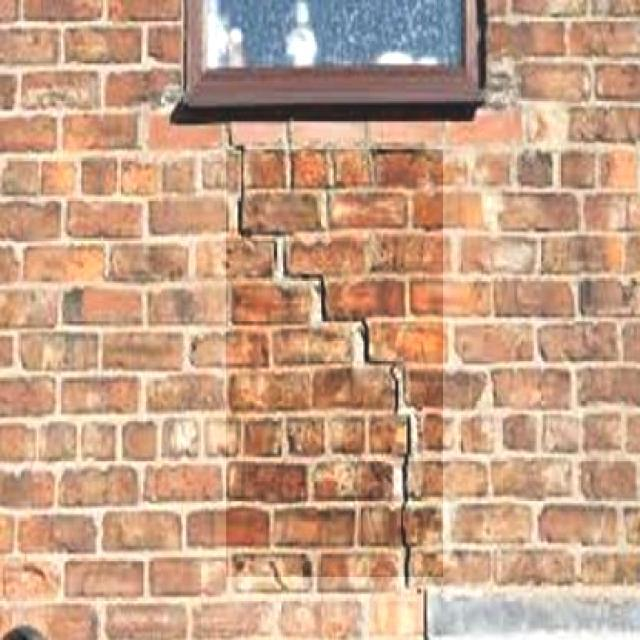SurfaceCrack: (210, 154, 468, 602)
